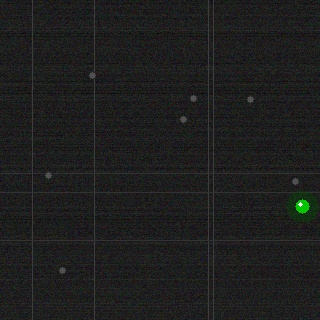green_normal: (293, 197, 311, 215)
